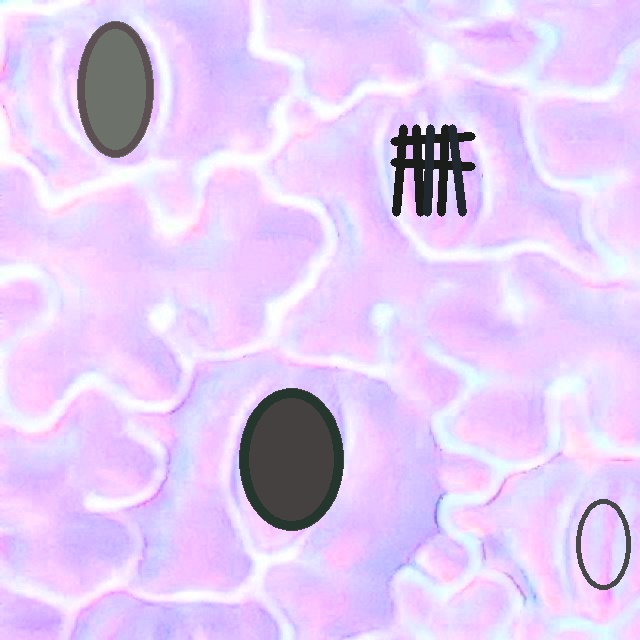open: (238, 388, 343, 530), (77, 20, 153, 157), (390, 124, 475, 216), (574, 498, 632, 591)
